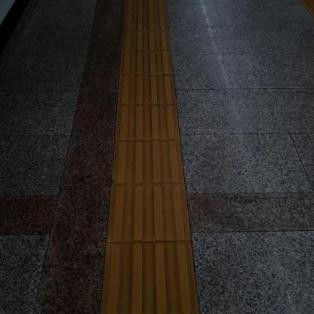Podoctatil: (102, 3, 198, 312)
